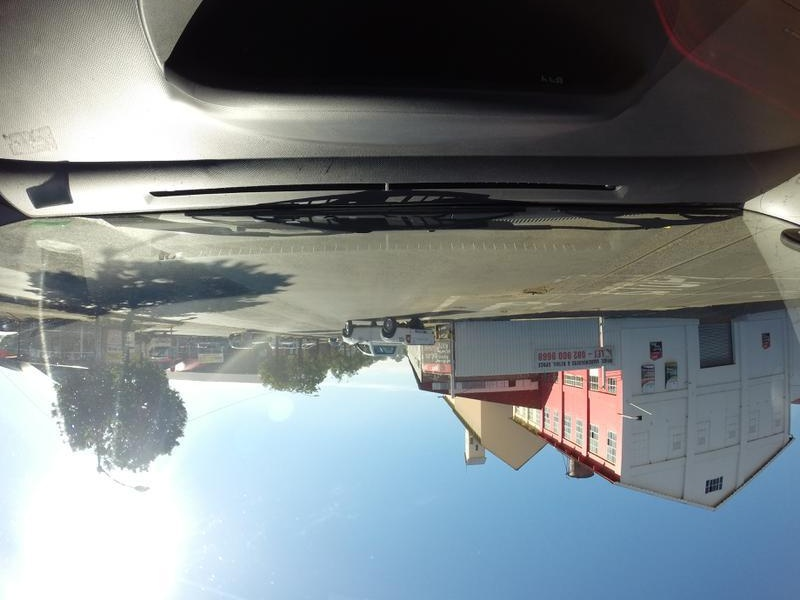pothole: (512, 277, 554, 303)
